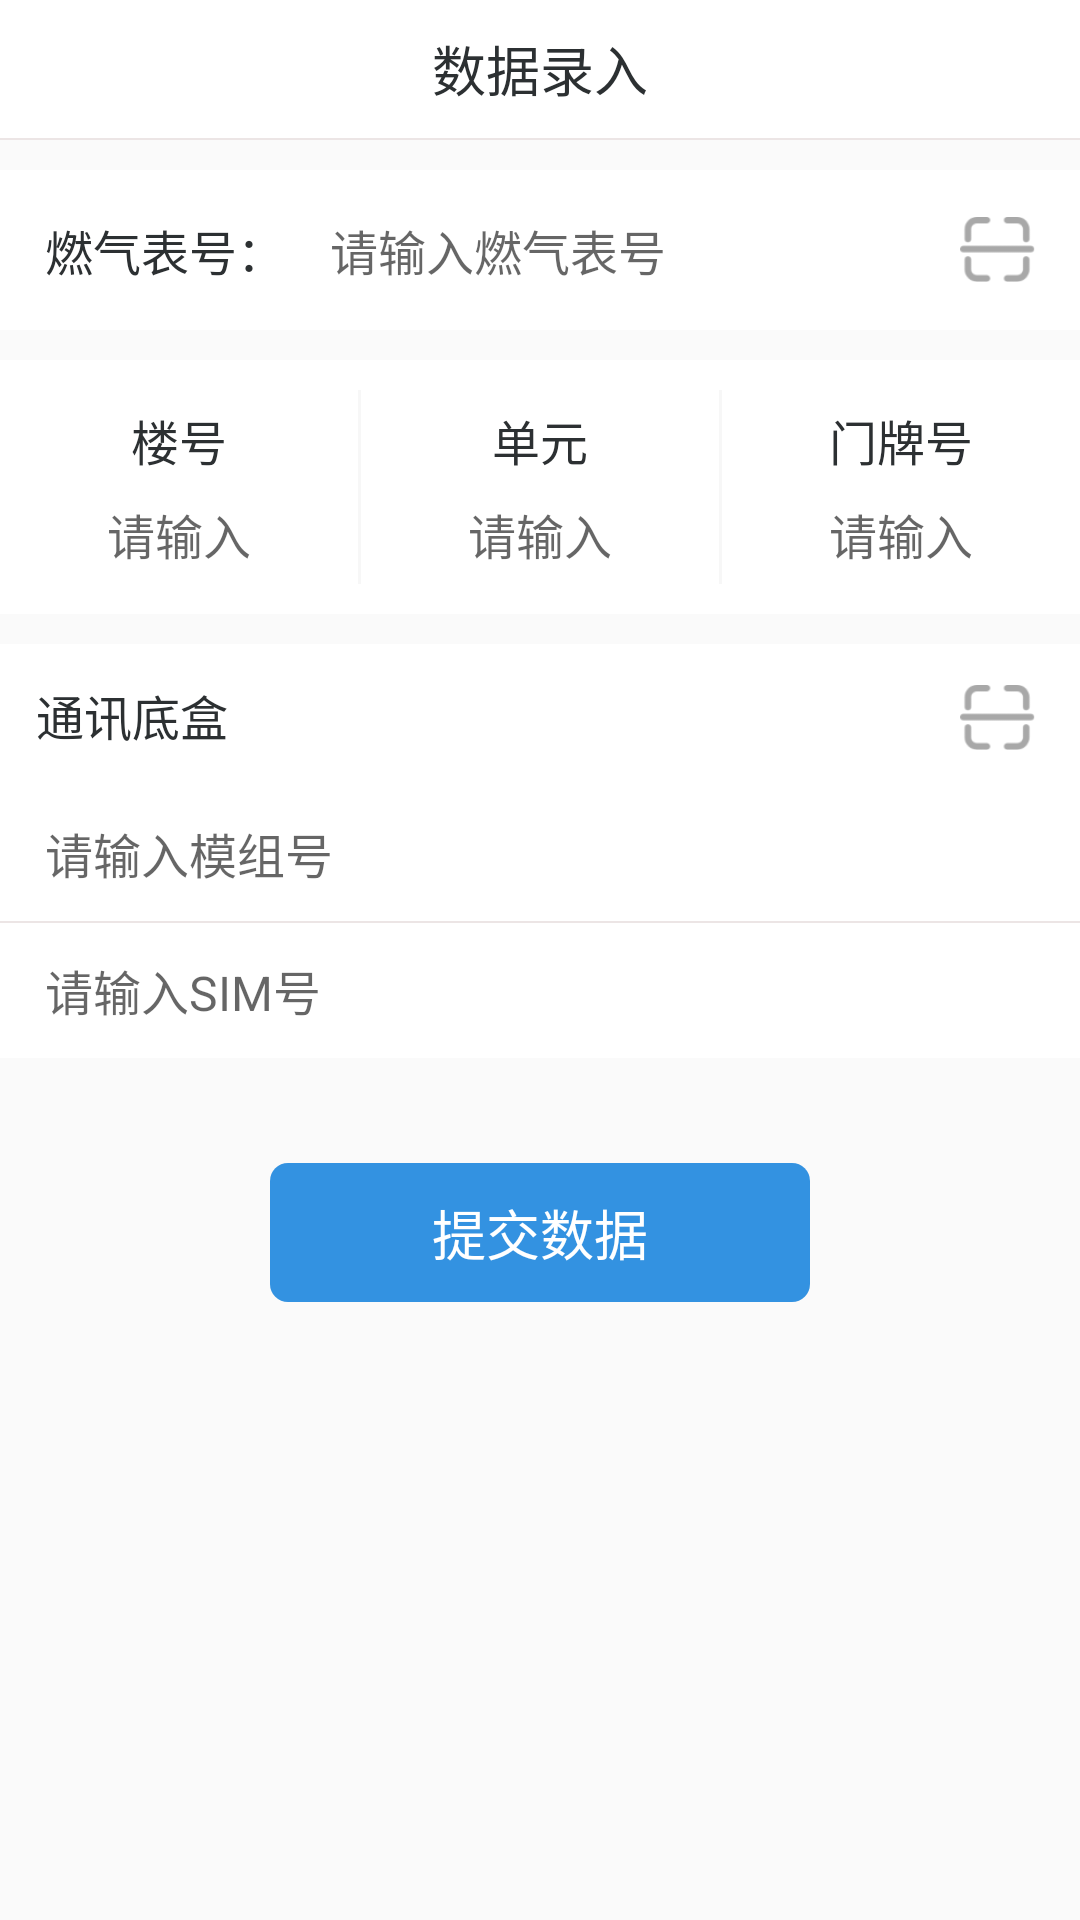

Where icons sit on this 1080 × 1920 app screen, as (x1, y1, x2, y2):
saoyisao: (960, 217, 1034, 282), (960, 685, 1034, 750)
